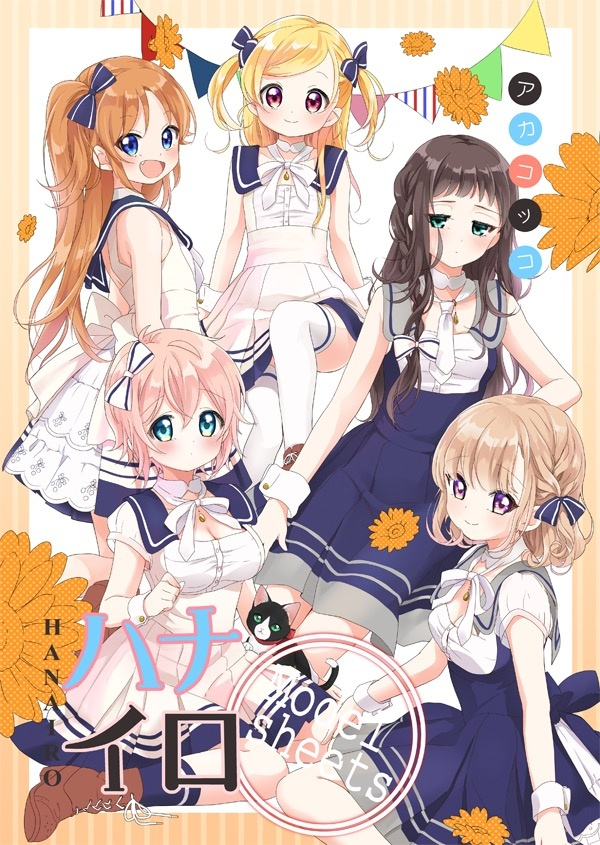纸片人正脸: (429, 391, 587, 545), (99, 329, 246, 482), (51, 54, 192, 200), (394, 133, 522, 273), (234, 14, 366, 144)
